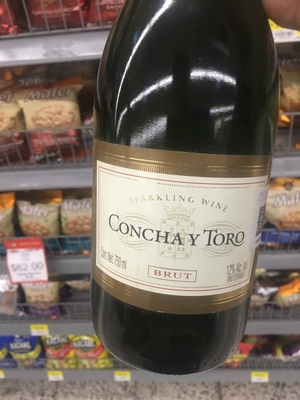brut: (78, 31, 274, 371)
